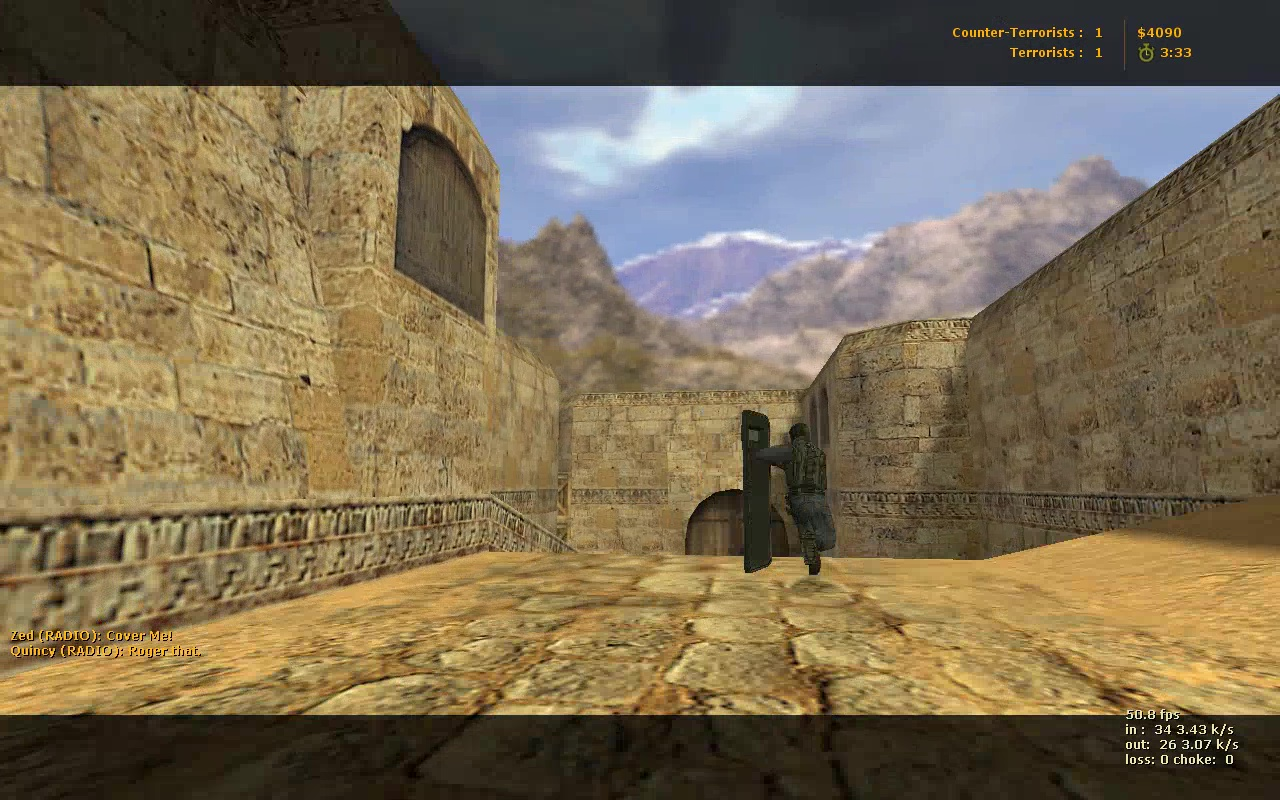ct: (741, 408, 837, 578)
